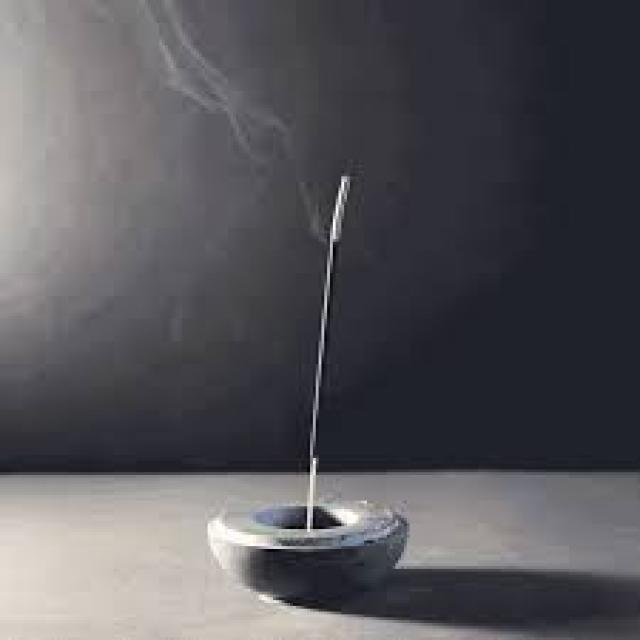Agarbatti: (303, 158, 359, 527)
